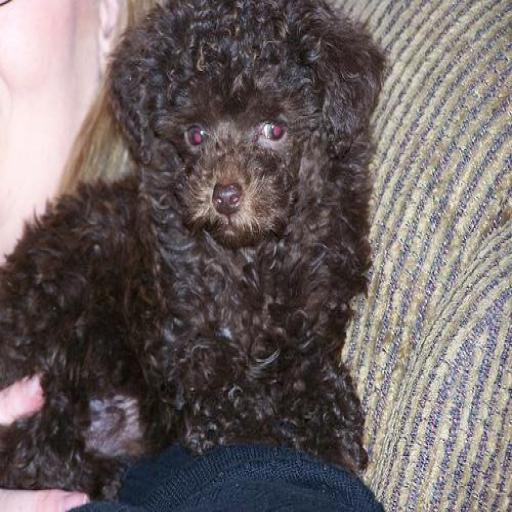dog_face: (116, 6, 363, 242)
